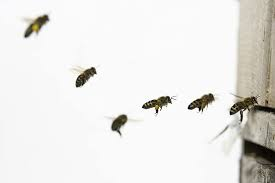insect: (19, 10, 51, 39), (226, 92, 257, 119), (141, 93, 177, 115), (67, 65, 97, 88), (103, 112, 127, 137), (187, 91, 215, 112)
